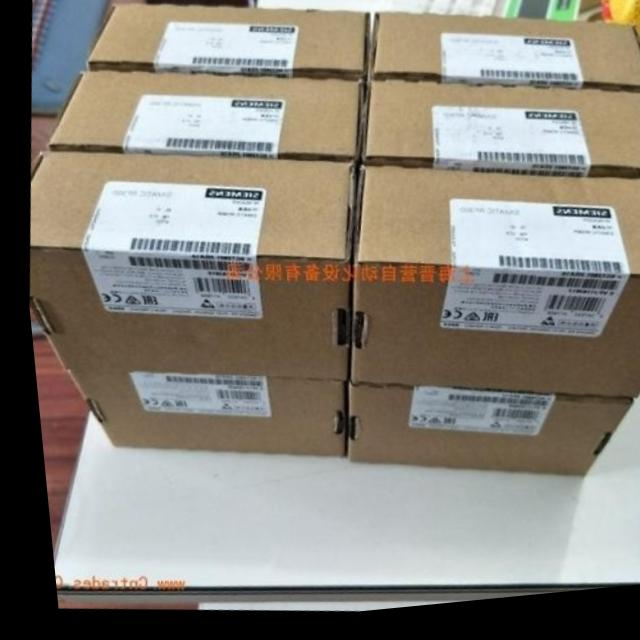box: (25, 151, 354, 389), (342, 170, 640, 411), (43, 62, 366, 170), (356, 87, 640, 189), (337, 389, 627, 487), (58, 371, 340, 464), (84, 4, 370, 87), (367, 18, 640, 102)
